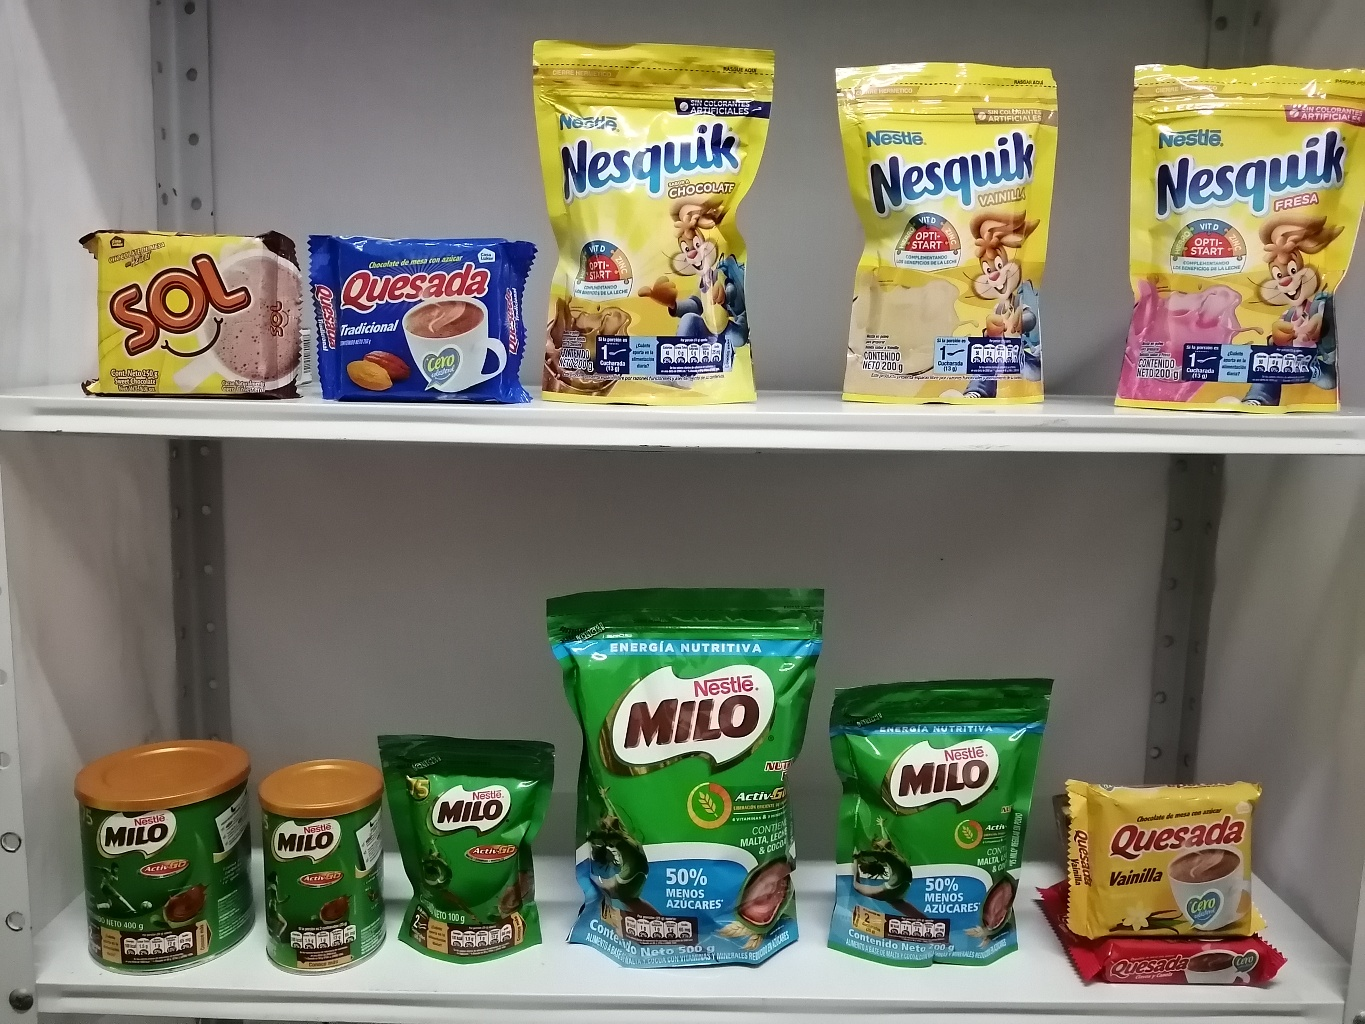COL0170203DYP10000: (369, 725, 561, 966)
COL0170203LAT20000: (244, 748, 410, 975)
COL0170203LAT40000: (67, 731, 265, 975)
COL0170205DYP20000: (829, 662, 1056, 985)
COL0170205DYP50000: (536, 573, 844, 978)
COL0170303DYP20000: (521, 34, 795, 406)
COL0170305DYP20000: (1112, 54, 1359, 424)
COL0170306DYP20000: (825, 47, 1062, 407)
